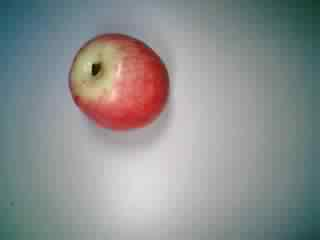apple: (67, 32, 173, 136)
